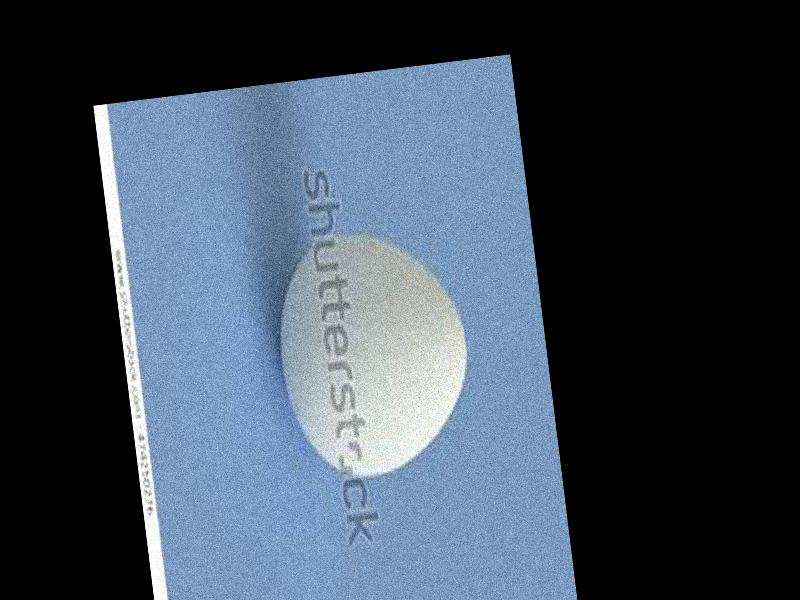Eggs: (265, 220, 479, 486)
